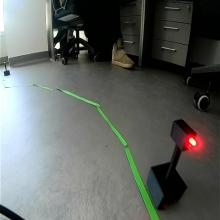red: (170, 118, 198, 153)
